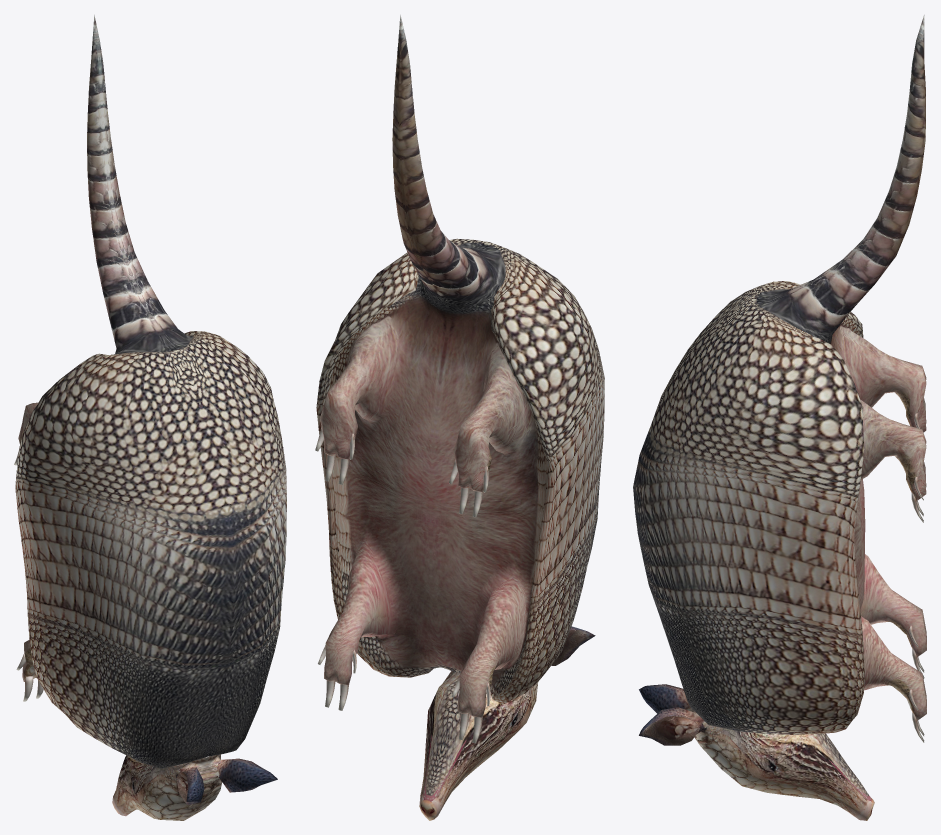
Rendered from armadillo.glb.
3 renders of one model, left to right at view 1: azimuth 30°, elevation 25°; view 2: azimuth 150°, elevation 25°; view 3: azimuth 270°, elevation 25°, orthographic. The views are drawn at different scales.
Visible parts, largest first — view 1: armadillo; view 2: armadillo; view 3: armadillo.
Boxes of the visible parts, x1,y1,x2,y2 form: armadillo: [14, 15, 286, 820]; armadillo: [315, 15, 604, 820]; armadillo: [633, 15, 926, 820].
Bounding box in the file's own units: 42.15 × 138 × 45.52.
1 material, 1 textured.
